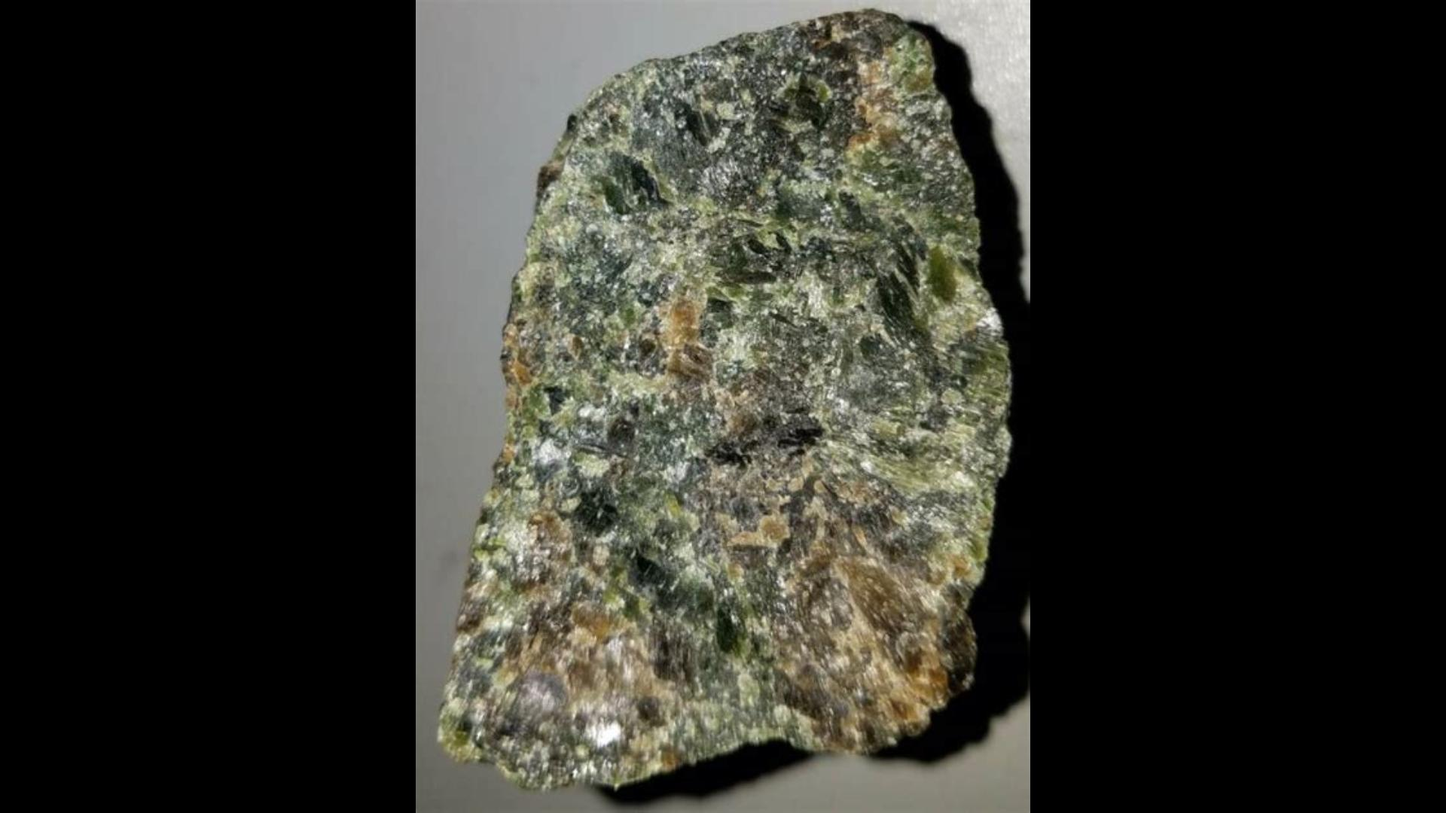rock: (442, 14, 1010, 786)
